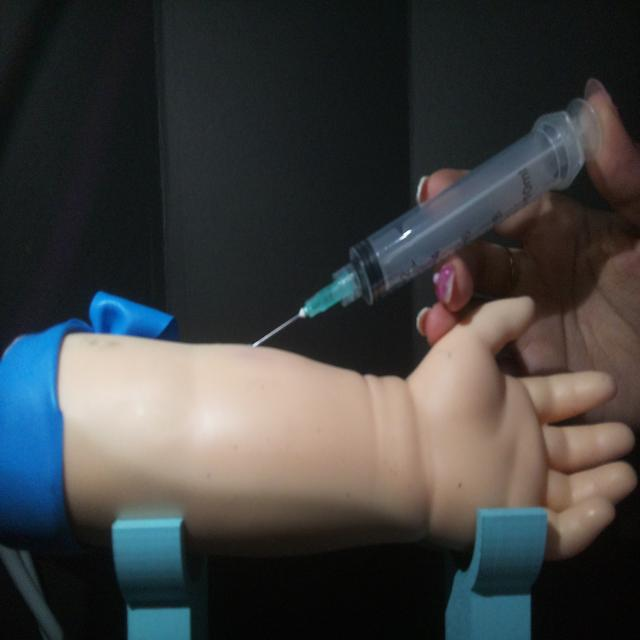29deg: (247, 90, 605, 352)
